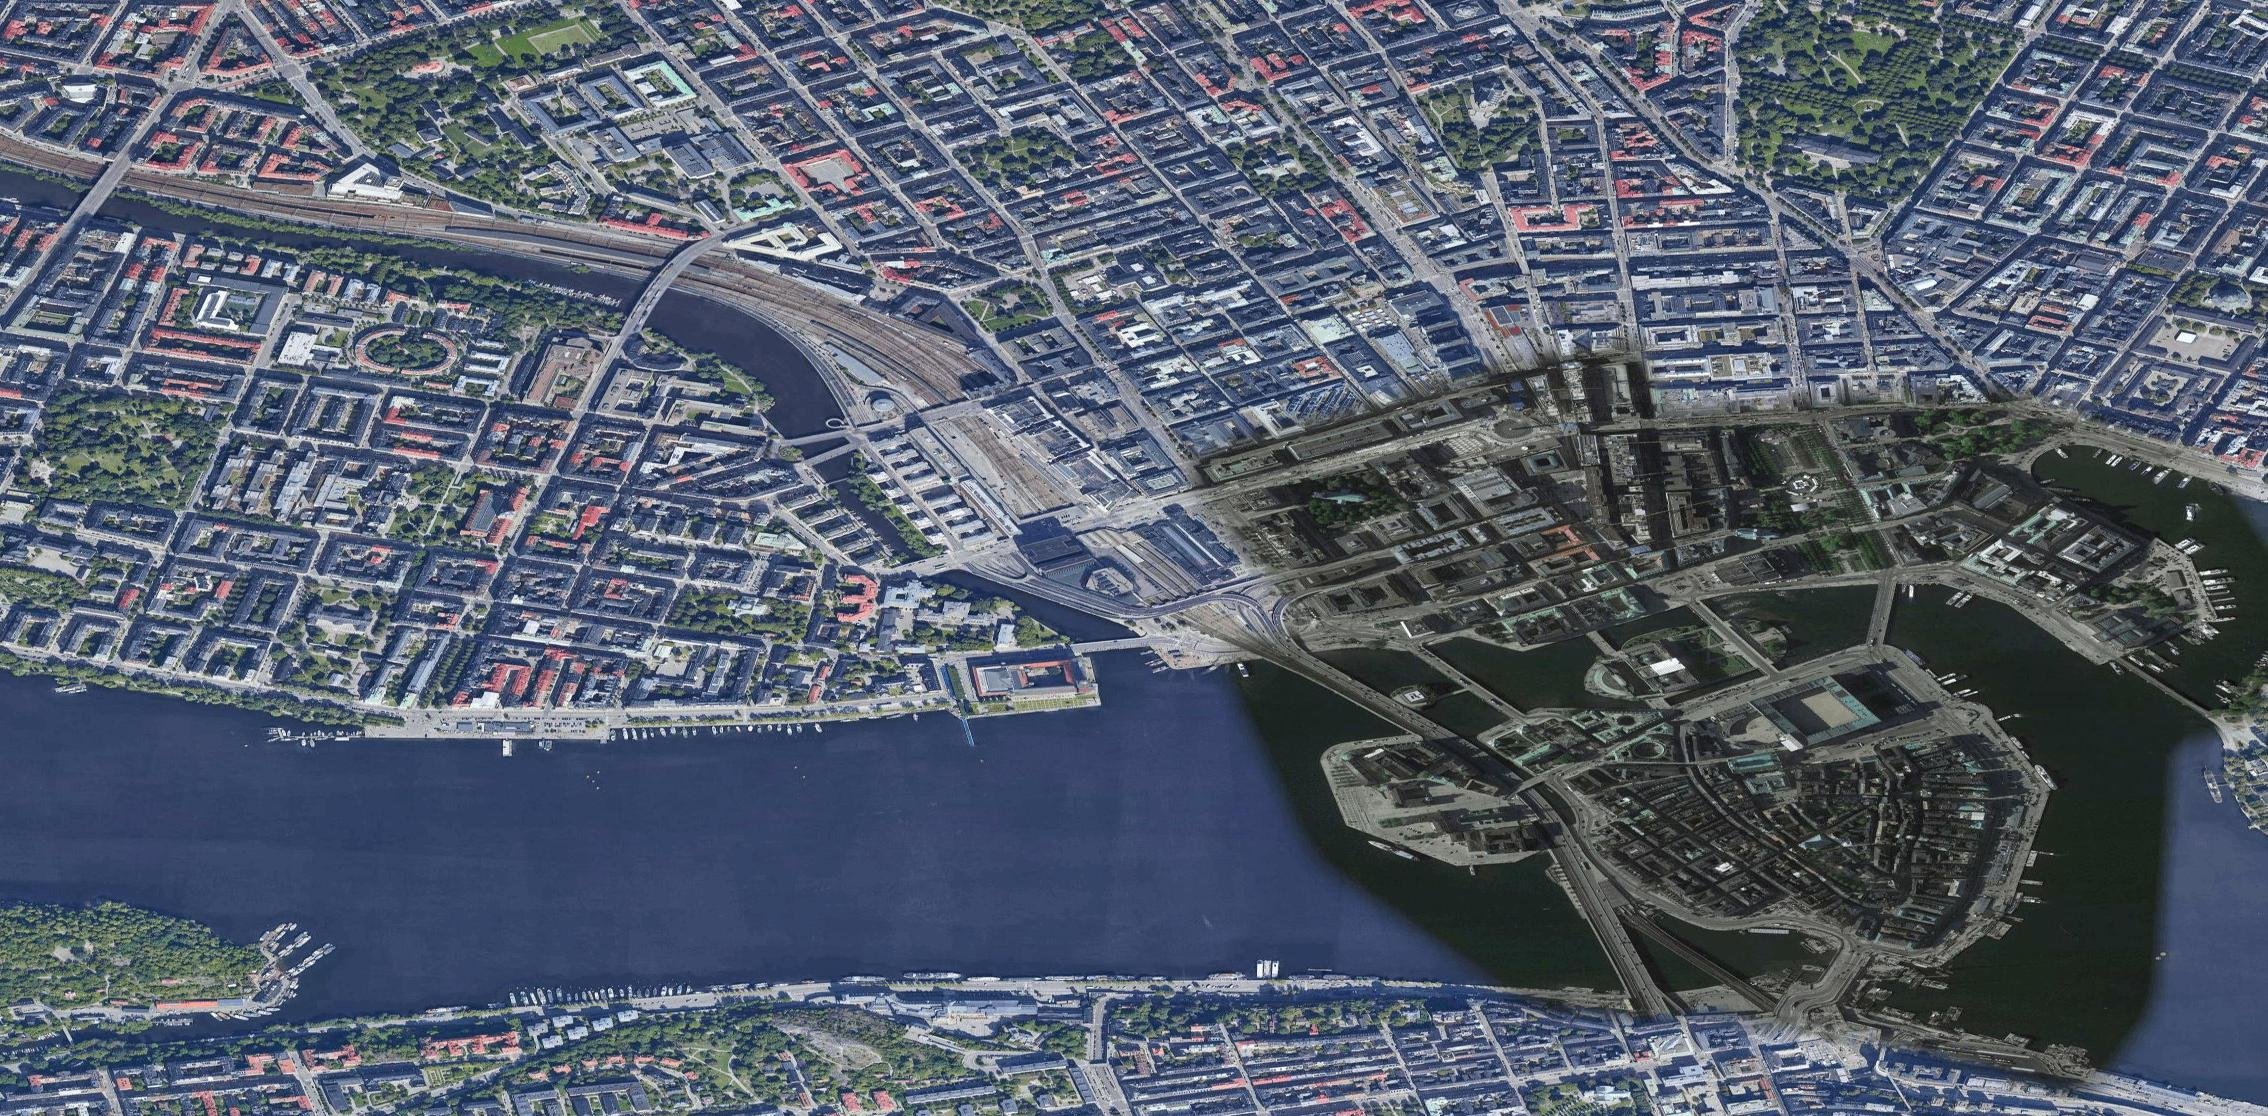bridge: (1539, 838, 1643, 984), (1280, 653, 1433, 734), (1636, 911, 1744, 993), (1412, 648, 1517, 718), (1694, 596, 1768, 666), (2122, 656, 2203, 713), (1073, 624, 1151, 664), (622, 272, 665, 330), (68, 172, 111, 228), (1862, 580, 1895, 646), (783, 421, 843, 450), (811, 439, 850, 476), (1582, 624, 1617, 658)
harbor: (252, 899, 1024, 1005), (257, 698, 995, 802), (2034, 421, 2268, 727)
train_station: (916, 359, 1104, 518)
